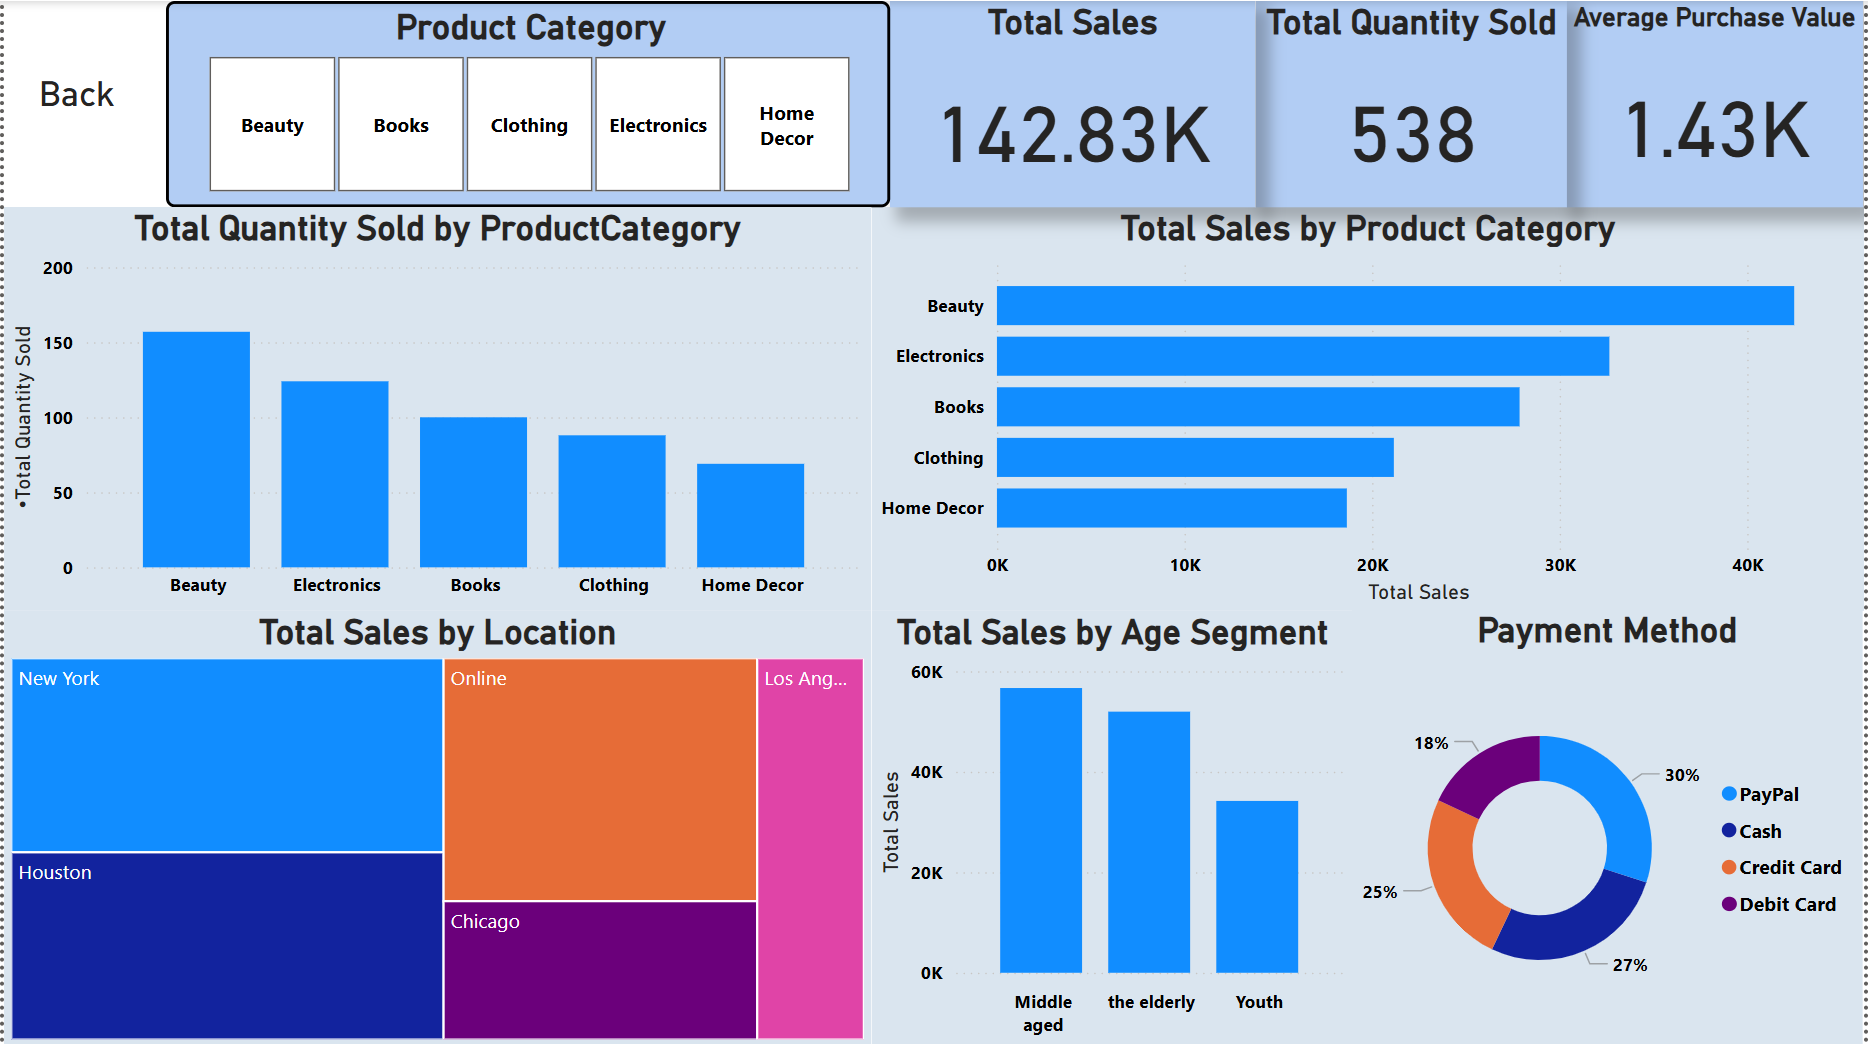

The page's visual inventory and layout, read from the dashboard file:
{"tool":"powerbi","page":{"name":"Overview","canvas":[1280,720],"ordinal":1},"visuals":[{"type":"actionButton","title":"Back","box":[0,50,100,40.6],"z":0},{"type":"clusteredBarChart","title":"Total Sales by Product Category","fields":{"Y":["Measures list.Total Sales"],"Category":["Table1.ProductCategory"]},"box":[597,142.2,683,278.2],"z":1000},{"type":"donutChart","title":" Payment Method","fields":{"Category":["Table1.PaymentMethod"],"Y":["CountNonNull(Table1.PaymentMethod)"]},"box":[928.4,418.9,351.6,301.6],"z":2000},{"type":"treemap","fields":{"Group":["Table1.Location"],"Values":["Measures list.Total Sales"]},"box":[0,420.4,597,300.1],"z":3000},{"type":"clusteredColumnChart","fields":{"Category":["Table1.Age Segment"],"Y":["Measures list.Total Sales"]},"box":[597,420.4,331.3,300.1],"z":4000},{"type":"card","title":"Average Purchase Value","fields":{"Values":["Measures list.Average Purchase Value"]},"box":[1075.3,0,204.7,142.2],"z":5000},{"type":"card","title":"Total Quantity Sold","fields":{"Values":["Measures list.•Total Quantity Sold"]},"box":[861.1,0,214.1,142.2],"z":6000},{"type":"card","title":"Total Sales","fields":{"Values":["Measures list.Total Sales"]},"box":[609.5,0,251.6,142.2],"z":7000},{"type":"slicer","title":"Product Category","fields":{"Values":["Table1.ProductCategory"]},"box":[111,0,498.6,142.2],"z":8000},{"type":"columnChart","title":"Total Quantity Sold by ProductCategory","fields":{"Category":["Table1.ProductCategory"],"Y":["Measures list.•Total Quantity Sold"]},"box":[0,142.2,597,278.2],"z":9000}]}

Visuals, with their boxes in screenshot pixels (x1, y1, x2, y2), scaled from the page's 1280x720 canvas onto the 1868x1044 screenshot:
"Back" actionButton: {"left": 0, "top": 72, "right": 146, "bottom": 131}
"Total Sales by Product Category" clusteredBarChart: {"left": 871, "top": 206, "right": 1867, "bottom": 610}
" Payment Method" donutChart: {"left": 1355, "top": 607, "right": 1867, "bottom": 1043}
treemap - Table1.Location x Measures list.Total Sales: {"left": 0, "top": 610, "right": 871, "bottom": 1043}
clusteredColumnChart - Table1.Age Segment x Measures list.Total Sales: {"left": 871, "top": 610, "right": 1355, "bottom": 1043}
"Average Purchase Value" card: {"left": 1569, "top": 0, "right": 1867, "bottom": 206}
"Total Quantity Sold" card: {"left": 1257, "top": 0, "right": 1569, "bottom": 206}
"Total Sales" card: {"left": 889, "top": 0, "right": 1257, "bottom": 206}
"Product Category" slicer: {"left": 162, "top": 0, "right": 890, "bottom": 206}
"Total Quantity Sold by ProductCategory" columnChart: {"left": 0, "top": 206, "right": 871, "bottom": 610}
